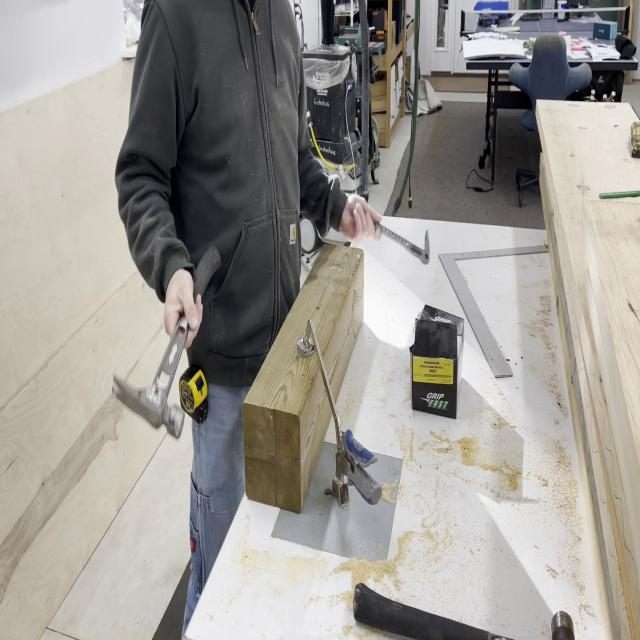hammer: (111, 245, 221, 441), (353, 581, 574, 640)
